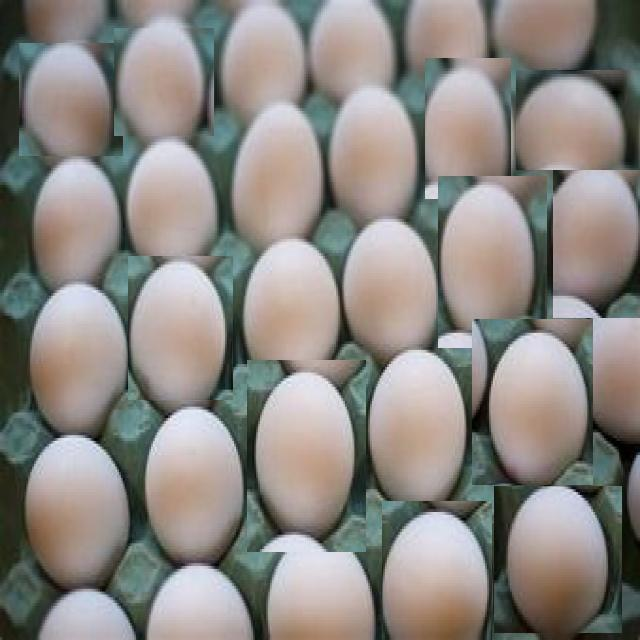Egg: (247, 360, 366, 552), (364, 338, 472, 538), (137, 404, 257, 574), (472, 319, 593, 485), (493, 486, 622, 633), (438, 176, 547, 348), (20, 434, 137, 594), (336, 210, 459, 350), (232, 238, 347, 386), (18, 283, 132, 425), (382, 501, 492, 640), (128, 256, 233, 400), (224, 97, 326, 245), (553, 148, 640, 318), (15, 170, 134, 292), (331, 78, 424, 230), (120, 132, 220, 272), (516, 70, 640, 170), (426, 58, 512, 199), (20, 43, 124, 156), (114, 27, 214, 136)
